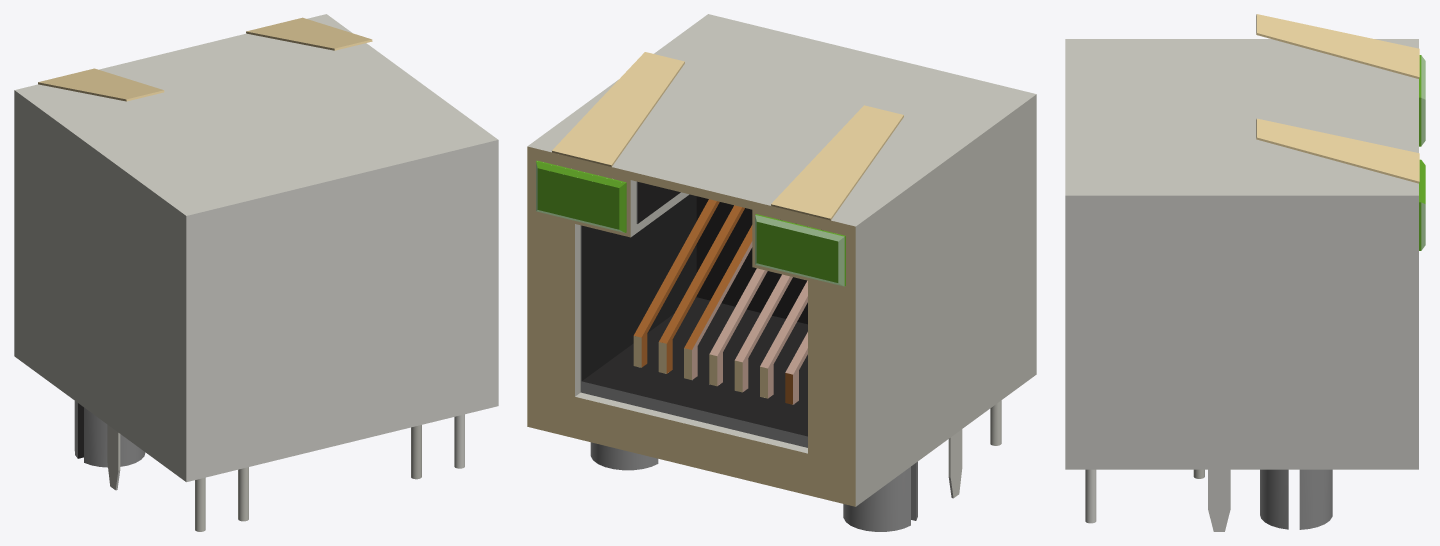
3 views of the same model, side by side, from view 1: azimuth 30°, elevation 25°; view 2: azimuth 150°, elevation 25°; view 3: azimuth 270°, elevation 25° (orthographic). The views are drawn at different scales.
Size of the model in its own units: 16.51 by 18.68 by 16.05.
